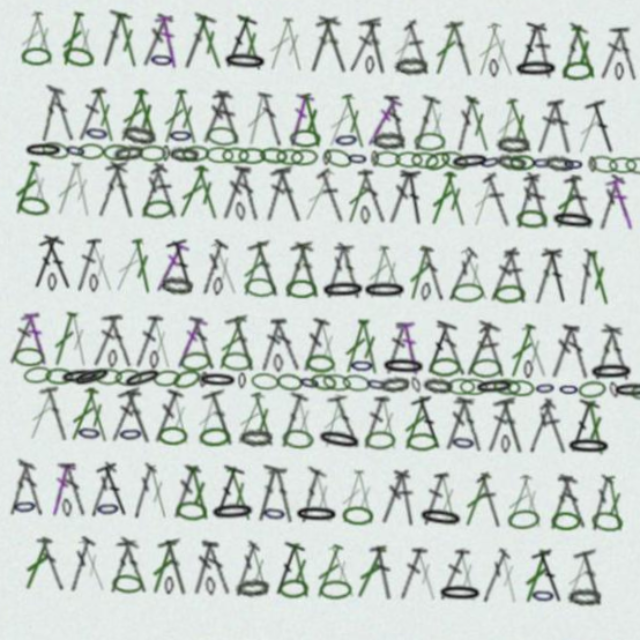chain: (294, 399, 336, 421), (81, 349, 118, 373), (125, 349, 162, 373), (384, 465, 425, 485), (204, 465, 245, 484), (492, 206, 533, 224), (295, 271, 335, 289), (529, 336, 569, 354), (205, 76, 245, 93), (457, 76, 497, 93), (331, 271, 371, 288), (404, 157, 440, 175), (71, 352, 107, 370), (349, 337, 389, 353), (511, 402, 551, 418), (277, 467, 317, 483), (403, 532, 443, 548), (119, 140, 150, 160), (430, 352, 466, 369), (66, 74, 95, 95), (381, 155, 407, 177), (228, 530, 258, 549), (395, 155, 422, 176), (168, 350, 195, 371), (462, 465, 491, 484), (534, 465, 563, 484), (294, 156, 321, 176), (31, 205, 59, 224), (139, 205, 167, 224), (550, 353, 585, 368), (499, 76, 527, 94), (193, 141, 221, 159), (112, 157, 140, 175), (229, 271, 257, 289), (445, 271, 473, 289), (175, 336, 203, 354), (193, 401, 221, 419), (265, 401, 293, 419), (354, 76, 383, 93), (336, 141, 365, 158), (156, 271, 185, 288), (228, 401, 257, 418), (35, 159, 70, 173), (191, 354, 226, 368), (409, 271, 437, 288), (121, 531, 149, 548), (301, 531, 329, 548), (50, 157, 76, 175), (565, 352, 591, 370), (444, 142, 473, 158), (516, 532, 545, 548), (444, 157, 471, 174), (463, 206, 490, 223), (211, 336, 238, 353), (391, 336, 418, 353), (427, 336, 454, 353), (348, 352, 375, 369), (337, 401, 364, 418), (175, 466, 202, 483), (525, 157, 551, 174), (284, 336, 310, 353), (266, 531, 292, 548), (31, 77, 58, 93), (265, 142, 292, 158), (373, 142, 400, 158), (265, 272, 292, 288), (31, 337, 58, 353), (373, 402, 400, 418), (319, 467, 346, 483), (40, 352, 65, 369), (152, 352, 177, 369), (299, 352, 324, 369), (316, 352, 341, 369), (520, 352, 545, 369), (158, 402, 184, 418), (500, 467, 526, 483), (87, 141, 110, 159), (303, 141, 326, 159), (249, 466, 272, 484), (288, 352, 312, 369), (266, 158, 291, 174), (556, 158, 581, 174), (237, 353, 262, 369), (87, 401, 110, 418), (123, 401, 146, 418), (411, 401, 434, 418), (33, 466, 56, 483), (105, 466, 128, 483), (486, 158, 512, 173), (386, 353, 412, 368), (259, 353, 283, 369), (429, 157, 450, 175), (172, 158, 197, 173), (239, 158, 264, 173), (161, 159, 187, 173), (102, 353, 126, 368), (119, 353, 143, 368), (447, 353, 471, 368), (70, 157, 91, 174), (142, 77, 164, 93), (160, 142, 182, 158), (322, 337, 344, 353), (484, 532, 506, 548), (104, 159, 128, 173), (135, 159, 159, 173), (193, 159, 217, 173), (207, 159, 231, 173), (221, 159, 245, 173), (254, 159, 278, 173), (338, 159, 362, 173), (357, 159, 381, 173), (371, 159, 395, 173), (542, 159, 566, 173), (59, 354, 83, 368), (407, 354, 431, 368), (418, 354, 442, 368), (459, 354, 483, 368), (82, 159, 105, 173), (456, 159, 479, 173), (278, 353, 298, 369), (336, 353, 356, 369), (482, 353, 502, 368), (475, 158, 494, 173), (315, 159, 334, 173), (502, 159, 521, 173), (573, 159, 592, 173), (503, 354, 522, 368), (219, 206, 230, 223), (202, 531, 212, 548), (375, 353, 386, 368), (76, 467, 86, 483), (547, 353, 557, 368), (436, 77, 445, 93), (328, 207, 337, 223), (202, 272, 211, 288), (382, 272, 391, 288), (256, 337, 265, 353), (329, 77, 337, 93), (545, 77, 553, 93), (59, 272, 67, 288), (95, 272, 103, 288), (113, 337, 121, 353), (149, 337, 157, 353), (473, 337, 481, 353), (455, 402, 463, 418), (167, 532, 175, 548), (294, 159, 302, 173), (524, 159, 532, 173), (192, 354, 200, 368), (155, 159, 162, 173), (336, 159, 343, 173), (226, 354, 233, 368)
double: (416, 303, 453, 355), (122, 368, 159, 420), (50, 238, 87, 289), (104, 433, 141, 484), (285, 43, 321, 95), (249, 173, 285, 225), (231, 238, 267, 290), (195, 368, 231, 420), (375, 368, 411, 419), (483, 498, 519, 549), (165, 43, 200, 95), (213, 303, 248, 355), (447, 368, 482, 420), (201, 43, 236, 94), (519, 108, 554, 159), (303, 368, 338, 419), (274, 43, 308, 95), (106, 173, 140, 225), (268, 238, 302, 290), (160, 498, 194, 550), (520, 498, 554, 550), (327, 109, 363, 158), (147, 239, 182, 289), (40, 238, 74, 289), (382, 303, 416, 354), (274, 174, 308, 224), (412, 239, 446, 289), (94, 43, 127, 94), (322, 43, 355, 94), (454, 43, 487, 94), (94, 173, 127, 224), (160, 238, 193, 289), (106, 303, 139, 354), (508, 368, 541, 419), (202, 433, 235, 484), (124, 498, 157, 549), (256, 498, 289, 549), (430, 44, 463, 94), (166, 174, 199, 224), (112, 239, 145, 289), (196, 239, 229, 289), (220, 369, 253, 419), (88, 499, 121, 549), (304, 499, 337, 549), (328, 499, 361, 549), (257, 238, 289, 289), (527, 303, 559, 354), (491, 433, 523, 484), (113, 498, 145, 549), (131, 44, 163, 94), (113, 109, 145, 159), (449, 109, 481, 159), (503, 174, 535, 224), (89, 239, 121, 289), (167, 304, 199, 354), (203, 304, 235, 354), (467, 304, 499, 354), (77, 369, 109, 419), (539, 43, 570, 94), (365, 108, 396, 159), (473, 238, 504, 289), (485, 238, 516, 289), (539, 303, 570, 354), (53, 368, 84, 419), (257, 368, 288, 419), (413, 368, 444, 419), (239, 433, 270, 484), (179, 44, 210, 94), (503, 44, 534, 94), (185, 109, 216, 159), (197, 109, 228, 159), (293, 109, 324, 159), (509, 109, 540, 159), (539, 174, 570, 224), (341, 239, 372, 289), (41, 369, 72, 419), (215, 434, 246, 484), (41, 499, 72, 549), (293, 499, 324, 549), (396, 43, 426, 94), (492, 43, 522, 94), (24, 433, 54, 484), (276, 433, 306, 484), (126, 109, 156, 159), (306, 109, 336, 159), (414, 109, 444, 159), (180, 174, 210, 224), (384, 174, 414, 224), (492, 174, 522, 224), (36, 304, 66, 354), (456, 304, 486, 354), (90, 369, 120, 419), (150, 369, 180, 419), (234, 369, 264, 419), (348, 434, 378, 484), (420, 434, 450, 484), (456, 434, 486, 484), (468, 434, 498, 484), (378, 499, 408, 549), (306, 238, 335, 289), (312, 44, 342, 93), (144, 174, 174, 223), (288, 174, 318, 223), (432, 174, 462, 223), (486, 369, 516, 418), (24, 44, 53, 94), (36, 44, 65, 94), (72, 44, 101, 94), (216, 44, 245, 94), (240, 44, 269, 94), (348, 44, 377, 94), (384, 44, 413, 94), (162, 109, 191, 159), (24, 174, 53, 224), (36, 174, 65, 224), (60, 174, 89, 224), (204, 174, 233, 224), (312, 174, 341, 224), (348, 174, 377, 224), (396, 174, 425, 224), (420, 174, 449, 224), (468, 174, 497, 224), (522, 239, 551, 289), (144, 304, 173, 354), (492, 304, 521, 354), (366, 369, 395, 419), (402, 369, 431, 419), (168, 434, 197, 484), (288, 434, 317, 484), (234, 499, 263, 549), (474, 499, 503, 549), (510, 499, 539, 549), (402, 240, 432, 288), (360, 44, 389, 93), (132, 174, 161, 223), (24, 304, 53, 353), (432, 304, 461, 353), (114, 369, 143, 418), (402, 499, 431, 548), (109, 44, 137, 94), (421, 44, 449, 94), (43, 109, 71, 159), (91, 109, 119, 159), (151, 109, 179, 159), (379, 109, 407, 159), (487, 109, 515, 159), (361, 174, 389, 224), (223, 239, 251, 289), (277, 304, 305, 354), (289, 304, 317, 354), (313, 304, 341, 354), (145, 434, 173, 484), (181, 434, 209, 484), (253, 434, 281, 484), (151, 499, 179, 549), (415, 499, 443, 549), (438, 500, 467, 548), (529, 44, 557, 93), (529, 174, 557, 223), (187, 239, 215, 288), (439, 239, 467, 288), (97, 304, 125, 353), (253, 304, 281, 353), (397, 304, 425, 353), (475, 369, 503, 418), (433, 434, 461, 483), (55, 499, 83, 548), (79, 499, 107, 548), (145, 44, 172, 94), (253, 44, 280, 94), (271, 109, 298, 159), (367, 239, 394, 289), (61, 304, 88, 354), (361, 304, 388, 354), (163, 369, 190, 419), (187, 369, 214, 419), (271, 369, 298, 419), (523, 369, 550, 419), (313, 434, 340, 484), (325, 434, 352, 484), (397, 434, 424, 484), (187, 499, 214, 549), (271, 499, 298, 549), (343, 499, 370, 549), (451, 499, 478, 549), (79, 109, 106, 158), (325, 174, 352, 223), (133, 304, 160, 353), (97, 434, 124, 483), (505, 434, 532, 483), (199, 499, 226, 548), (367, 499, 394, 548), (62, 44, 88, 94), (260, 109, 286, 159), (440, 109, 466, 159), (74, 174, 100, 224), (128, 239, 154, 289), (332, 239, 358, 289), (74, 304, 100, 354), (326, 304, 352, 354), (296, 369, 322, 419), (344, 369, 370, 419), (62, 434, 88, 484), (542, 434, 568, 484), (452, 239, 478, 288), (182, 304, 208, 353), (332, 369, 358, 418), (440, 369, 466, 418), (224, 499, 250, 548), (224, 109, 249, 159), (56, 109, 81, 158), (404, 109, 429, 158), (476, 109, 501, 158), (296, 239, 321, 288), (380, 239, 405, 288), (242, 304, 267, 353), (350, 304, 375, 353), (38, 434, 63, 483), (74, 434, 99, 483), (134, 434, 159, 483), (386, 434, 411, 483), (471, 44, 495, 93), (237, 109, 261, 158), (243, 174, 267, 223), (459, 174, 483, 223), (81, 239, 105, 288), (507, 304, 531, 353), (219, 174, 242, 223), (363, 434, 386, 483), (531, 434, 554, 483), (346, 109, 368, 158), (515, 239, 534, 288)
noise: (612, 453, 633, 474), (0, 218, 14, 242), (611, 161, 624, 174)
